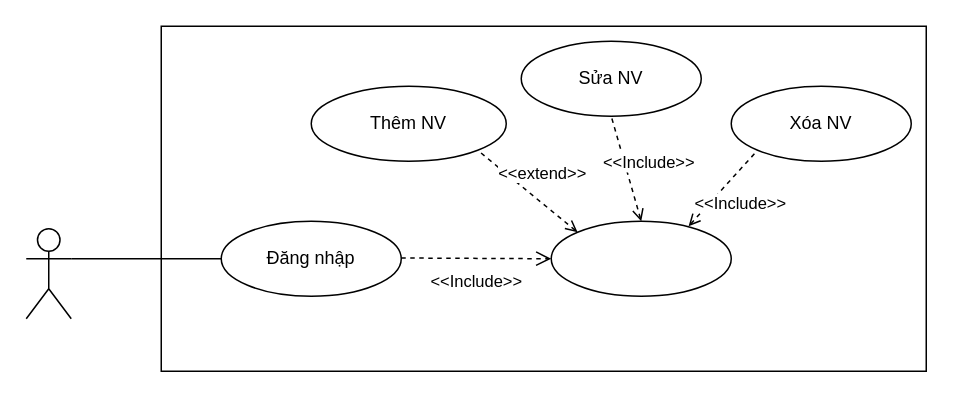
The diagram is 953 pixels wide and 398 high, and some of its shapes have lost their labels. The centre of each missing label's shape, as x and y in pixels:
QL: the point at 48,273
QL Nhân Viên: the point at 640,258
